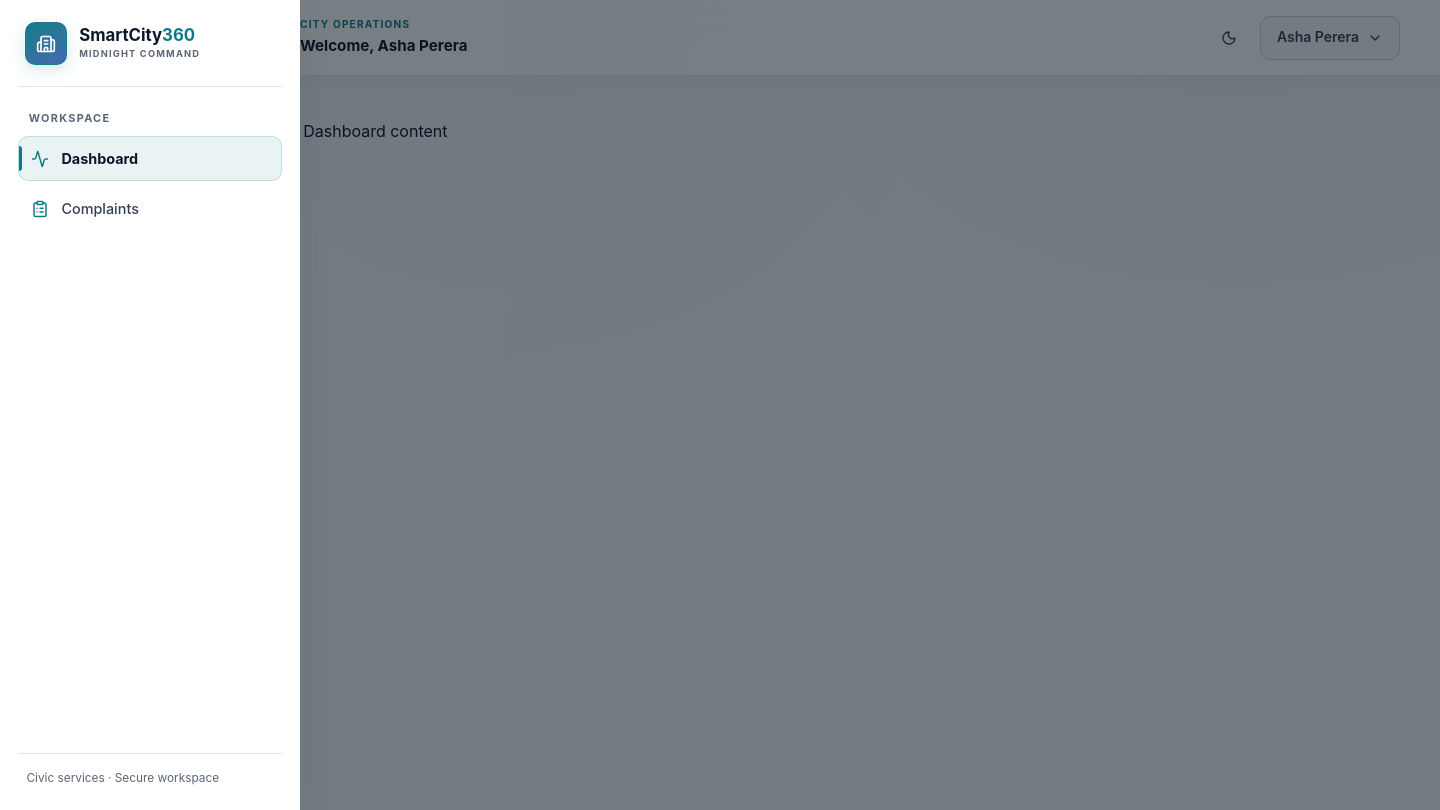
Scenario: AppShell › closes the mobile navigation after selecting a route
Earlier steps of the test are not shown.
Click the link "Complaints" at coordinates (85, 209), box [31, 200, 139, 218]
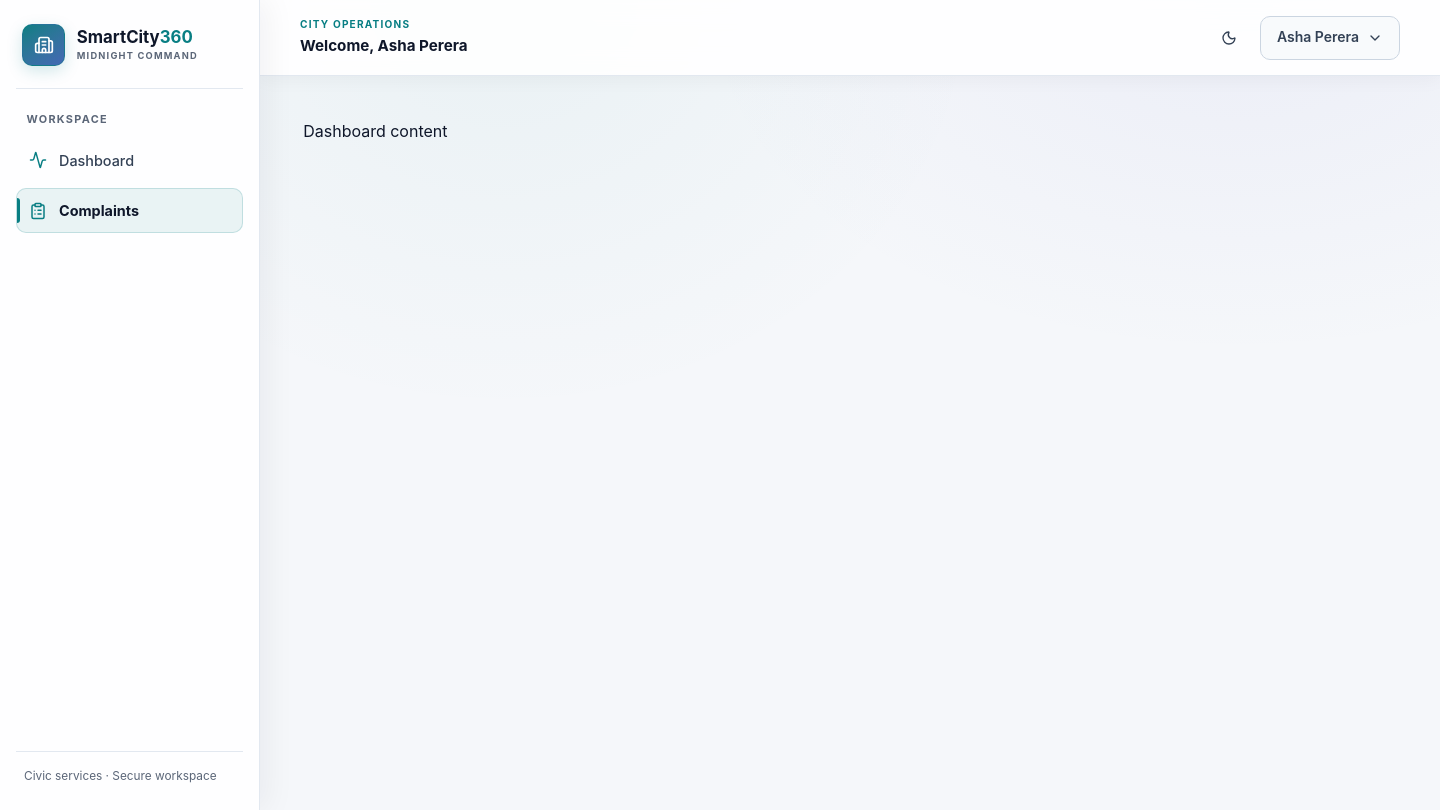
Result: the dialog is gone
